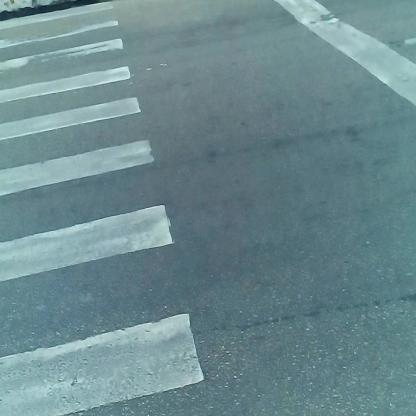crosswalk: (2, 3, 204, 416)
